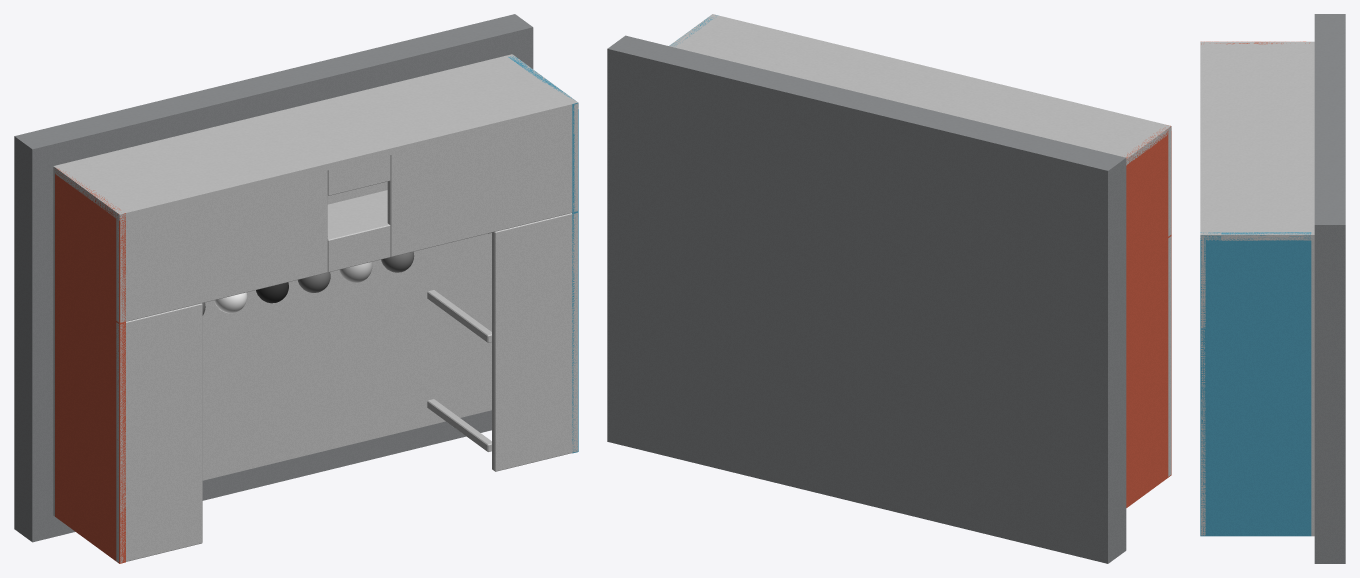
File: earth-pavilion-presentation.gltf
3 renders of one model, left to right at view 1: azimuth 30°, elevation 25°; view 2: azimuth 150°, elevation 25°; view 3: azimuth 270°, elevation 25°, orthographic. The views are drawn at different scales.
Size of the model in its own units: 24 by 18 by 7.
11 materials, 4 textured.
